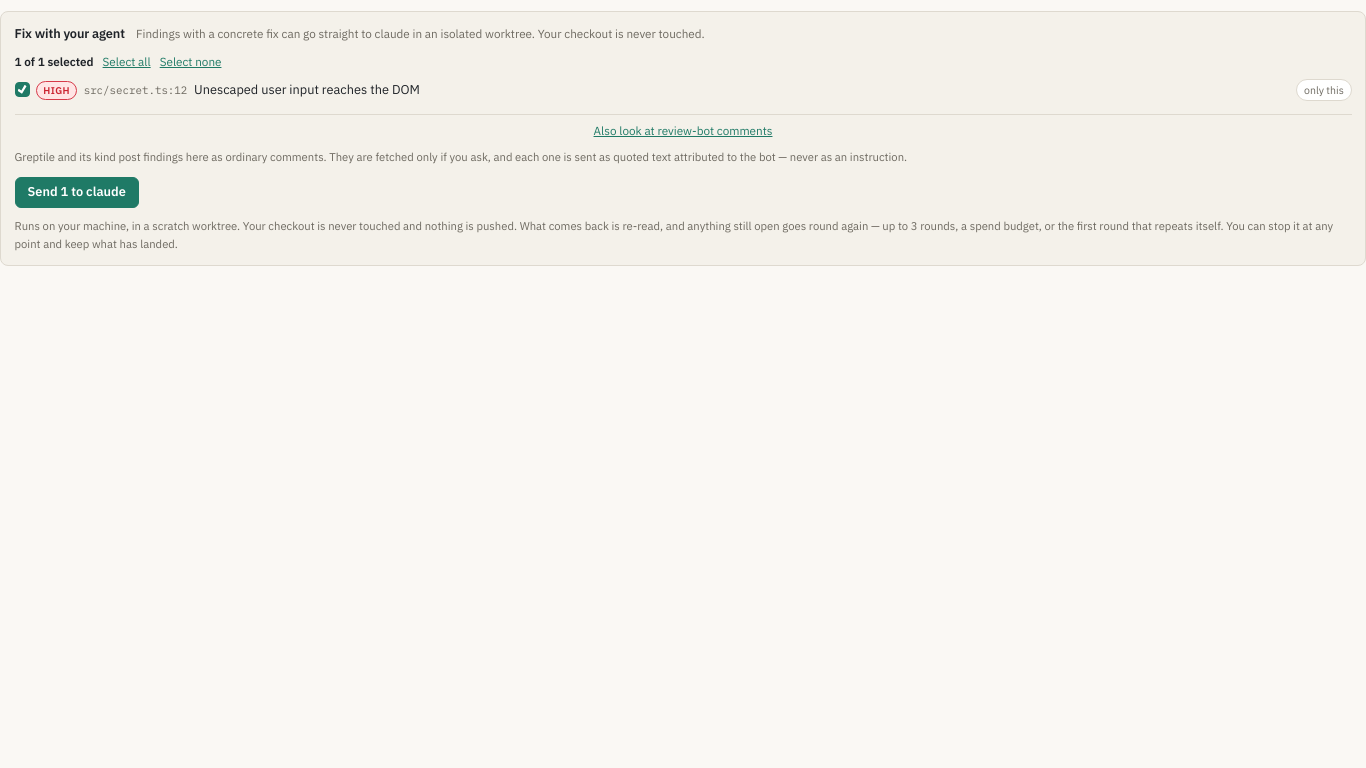
Test: the bounded loop › stops mid-flight on request, and KEEPS what earlier rounds landed
This screenshot has width=1366, height=768.
Click the button with test id "agent-fix-send" at [77, 193], box [14,177,139,208]
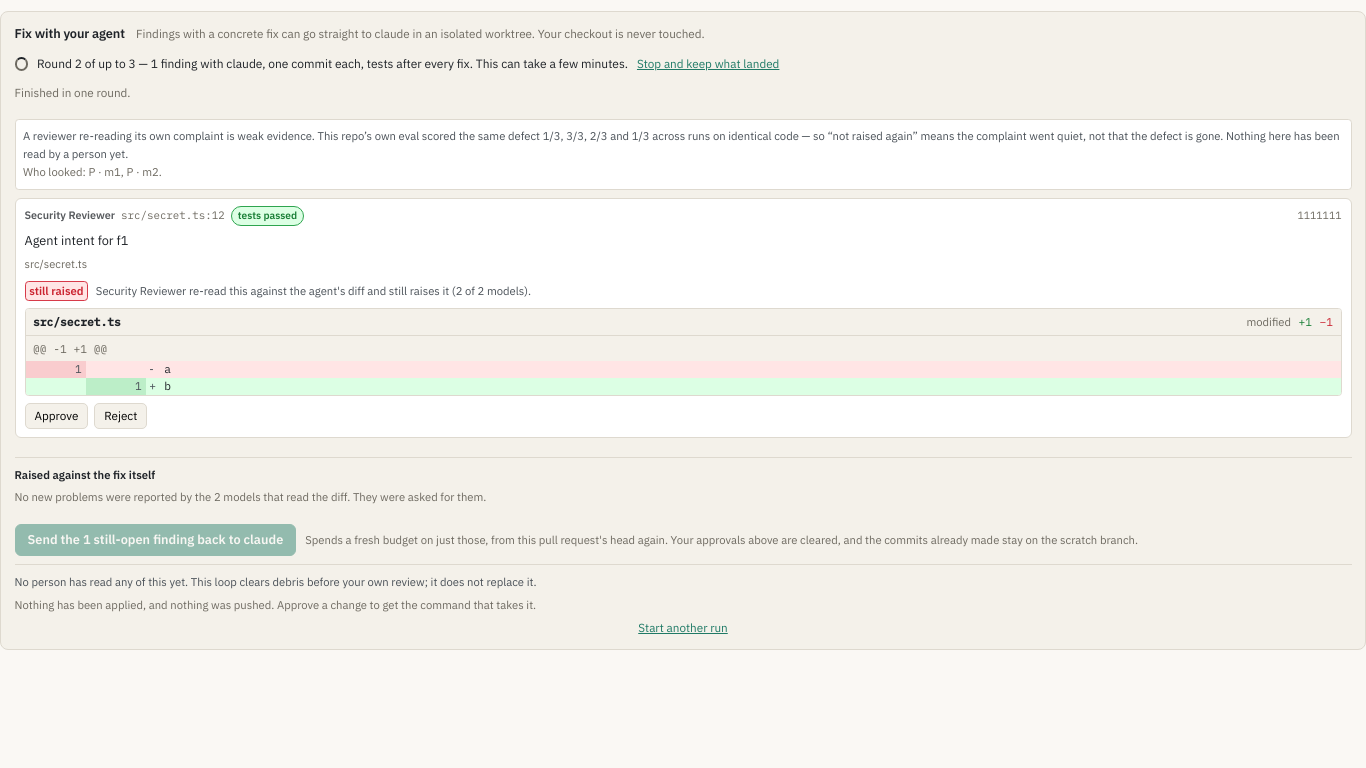
# Wait for round two to be in flight before stopping it.
Click the button with test id "agent-fix-cancel" at [708, 64], box [637,55,779,73]
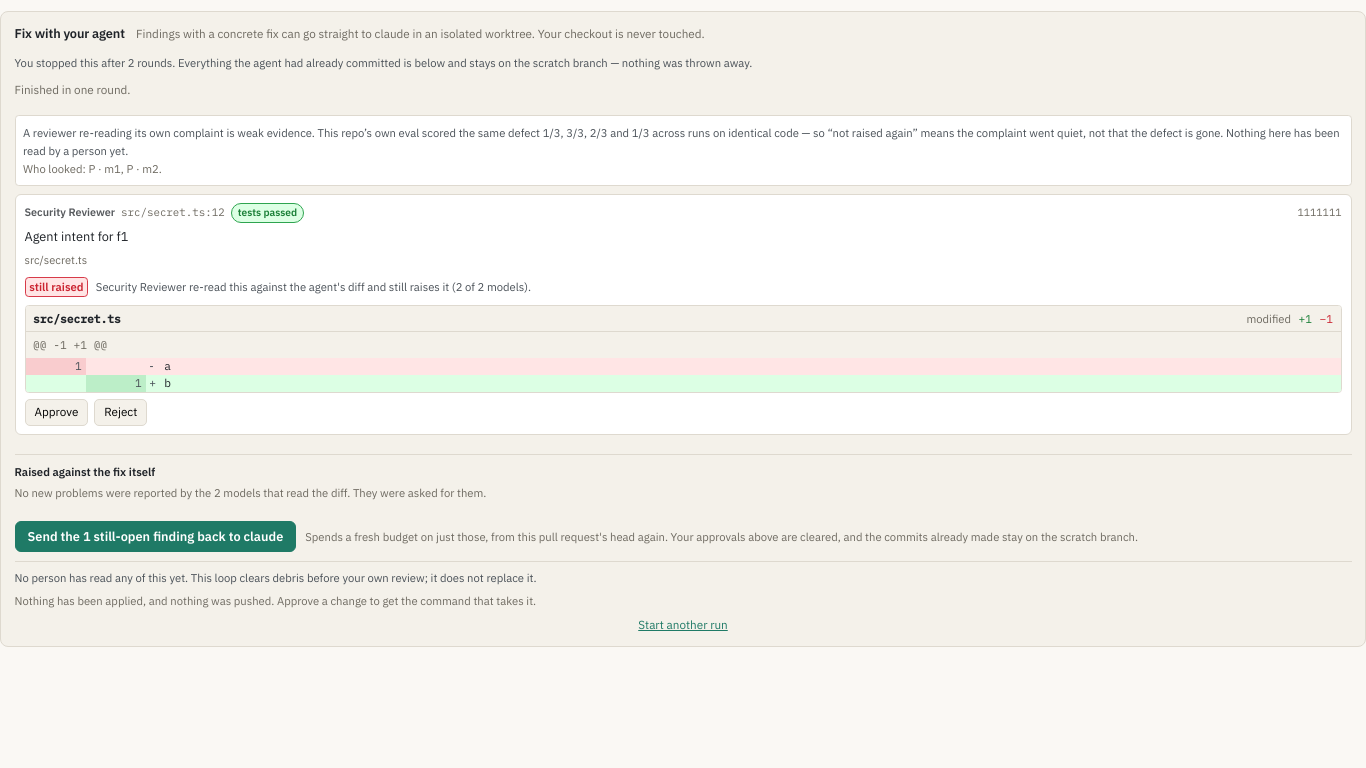
Check: the number of elements with test id "agent-fix-result" is 1, box [14,194,1352,435]
Check: the text with test id "agent-fix-loop-stop" shows "stays on the scratch branch", box [14,55,752,70]
